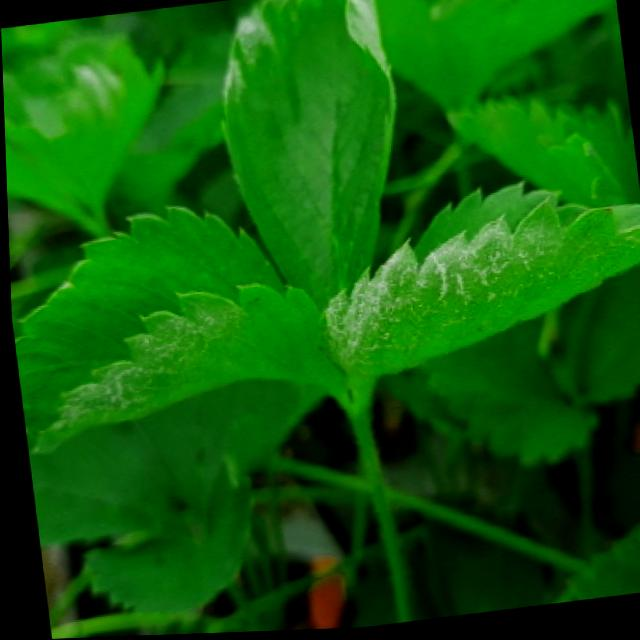Powdery Mildew Leaf: (10, 206, 341, 455), (323, 182, 640, 381), (221, 0, 397, 305)
